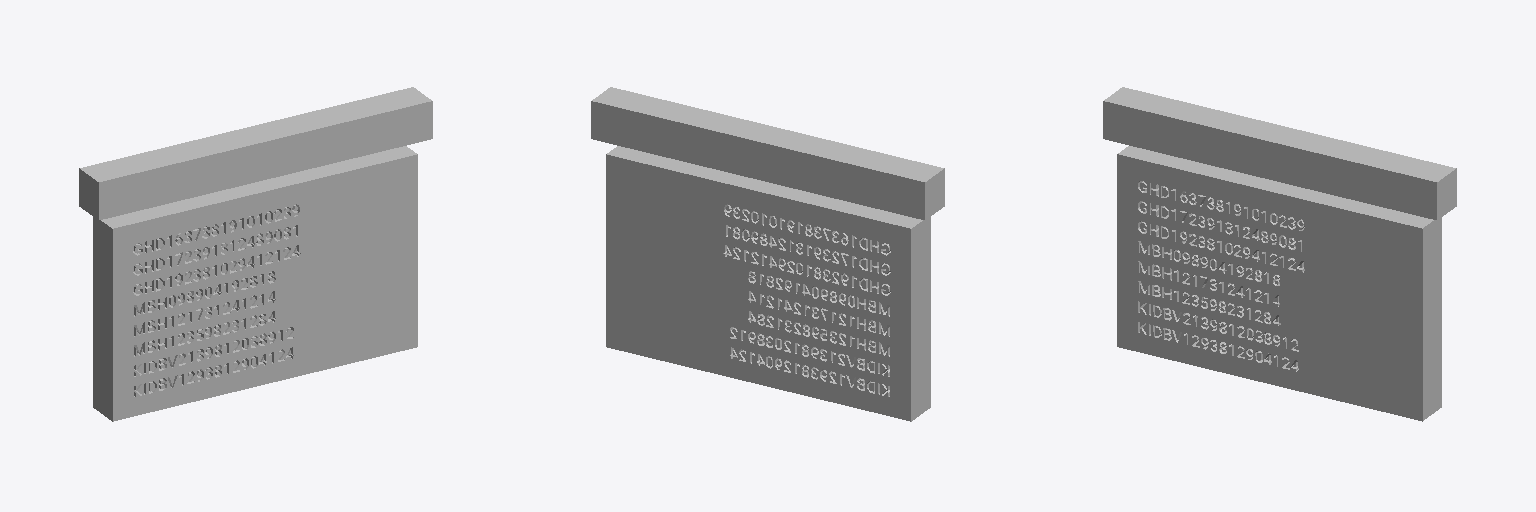
File: plantStatusPage.obj
3 renders of one model, left to right at view 1: azimuth 30°, elevation 25°; view 2: azimuth 150°, elevation 25°; view 3: azimuth 330°, elevation 25°, orthographic.
Parts seen in each view (by area): view 1: Object.2, Object.1; view 2: Object.2, Object.1; view 3: Object.2, Object.1.
Part boxes in pixels (x1,y1,x2,y2): Object.2: (93, 146, 417, 421); Object.1: (79, 87, 432, 220); Object.2: (606, 146, 930, 421); Object.1: (591, 87, 944, 220); Object.2: (1117, 146, 1441, 421); Object.1: (1103, 87, 1456, 220).
Bounding box in the file's own units: 184 × 128 × 18.39.